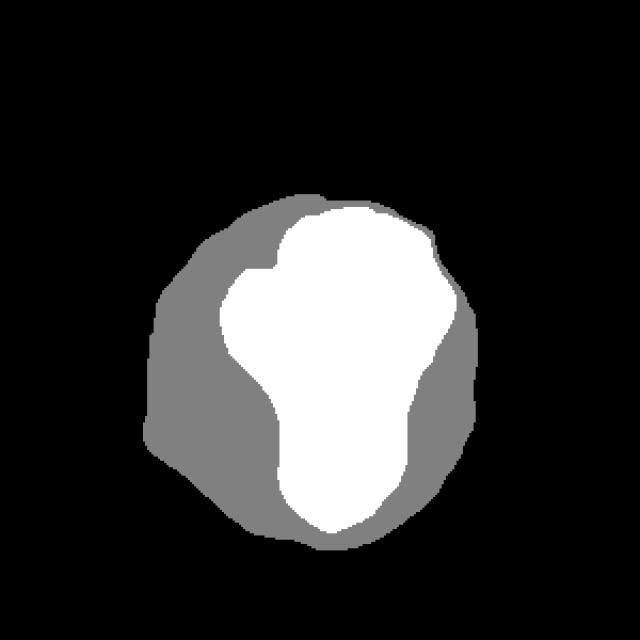WBC: (130, 171, 504, 565)
